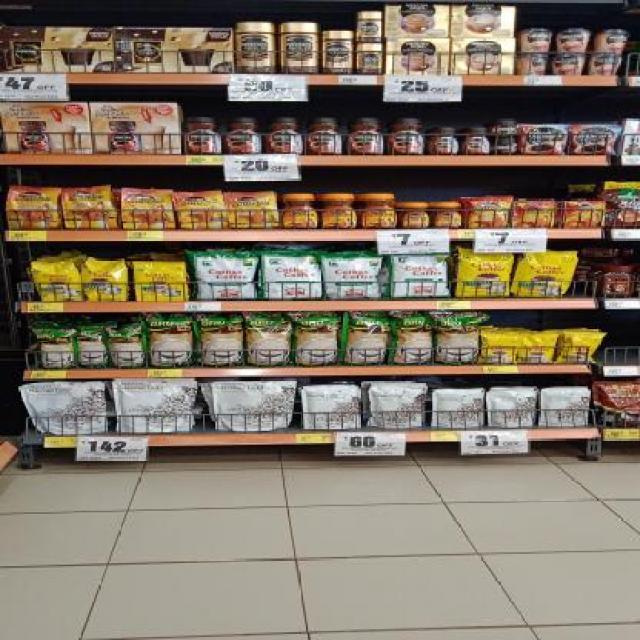Coffee: (62, 188, 118, 229), (121, 188, 176, 229), (8, 186, 60, 229), (236, 22, 276, 73), (278, 22, 317, 73), (176, 193, 229, 229), (228, 192, 278, 228), (348, 117, 388, 155), (262, 118, 304, 154), (306, 117, 346, 154), (521, 124, 567, 156), (388, 117, 427, 154), (182, 118, 222, 154), (356, 193, 398, 227), (321, 30, 354, 73), (224, 116, 262, 152), (320, 193, 357, 229), (572, 126, 616, 156), (468, 197, 510, 228), (282, 193, 318, 229), (461, 126, 491, 154), (357, 10, 383, 42), (357, 43, 383, 74), (430, 128, 460, 154), (401, 202, 430, 228), (432, 202, 462, 227), (491, 119, 517, 135), (496, 136, 518, 152)
